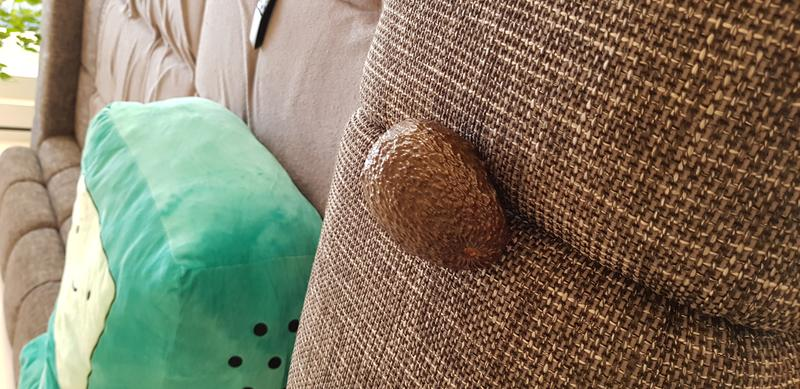Avocado: (348, 118, 530, 278)
